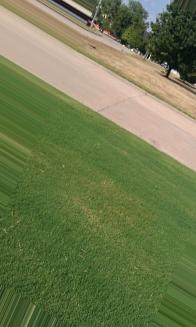patch: (76, 196, 101, 230)
